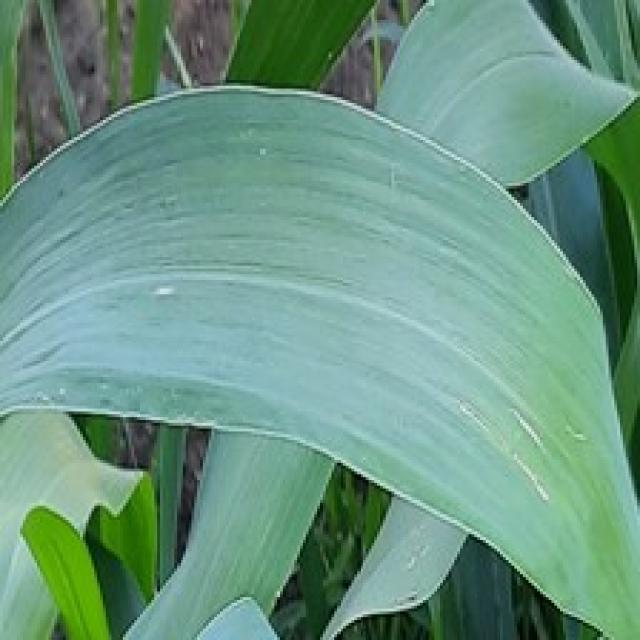Corn: (0, 0, 637, 637), (372, 0, 637, 189)
